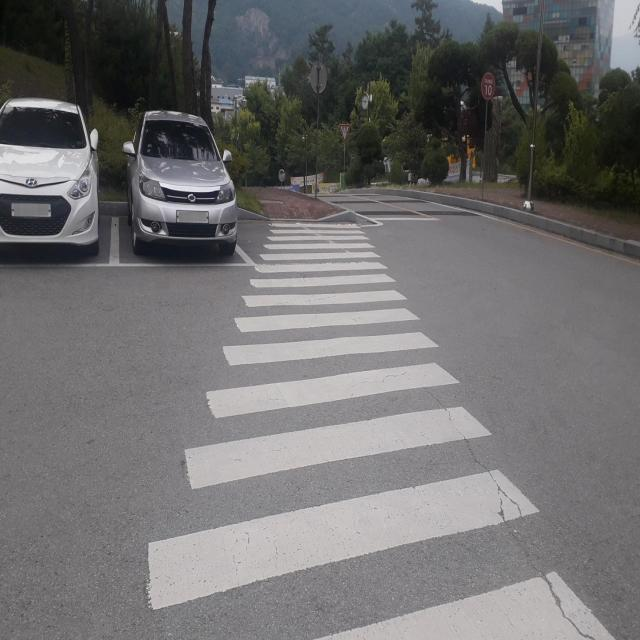횡단보도: (144, 212, 618, 629)
